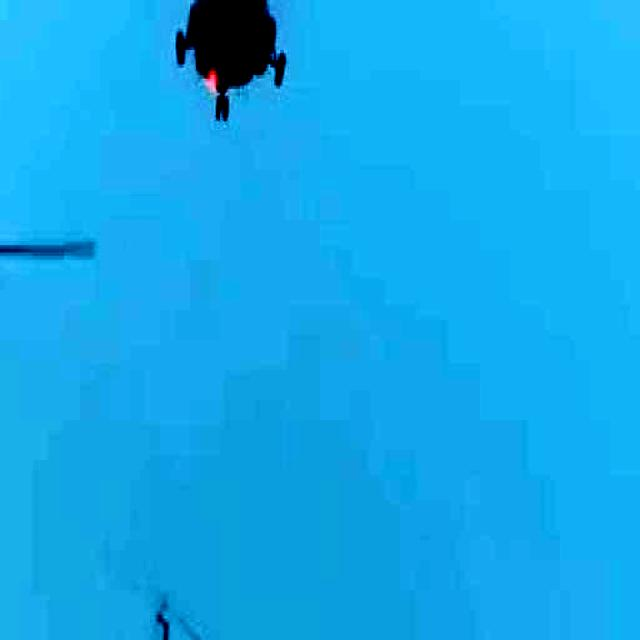drone: (0, 0, 471, 132), (0, 151, 110, 416), (139, 568, 324, 640)
